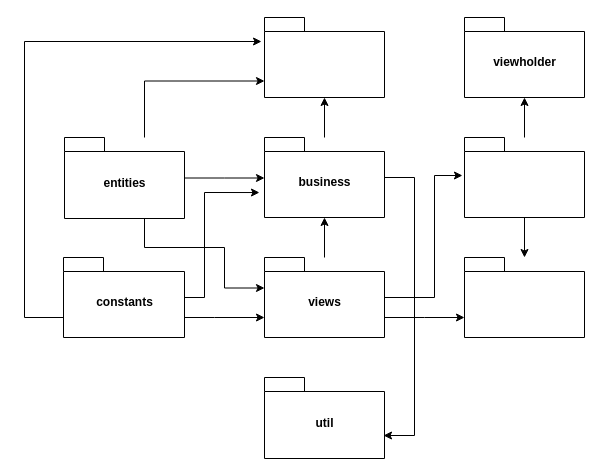
Some shapes in this 602 by 476 pixel diagram are drawn without their labels. Each missing label, with the centre of its shape:
adapter: the point at 524,177
listeners: the point at 524,297
repository: the point at 324,57
